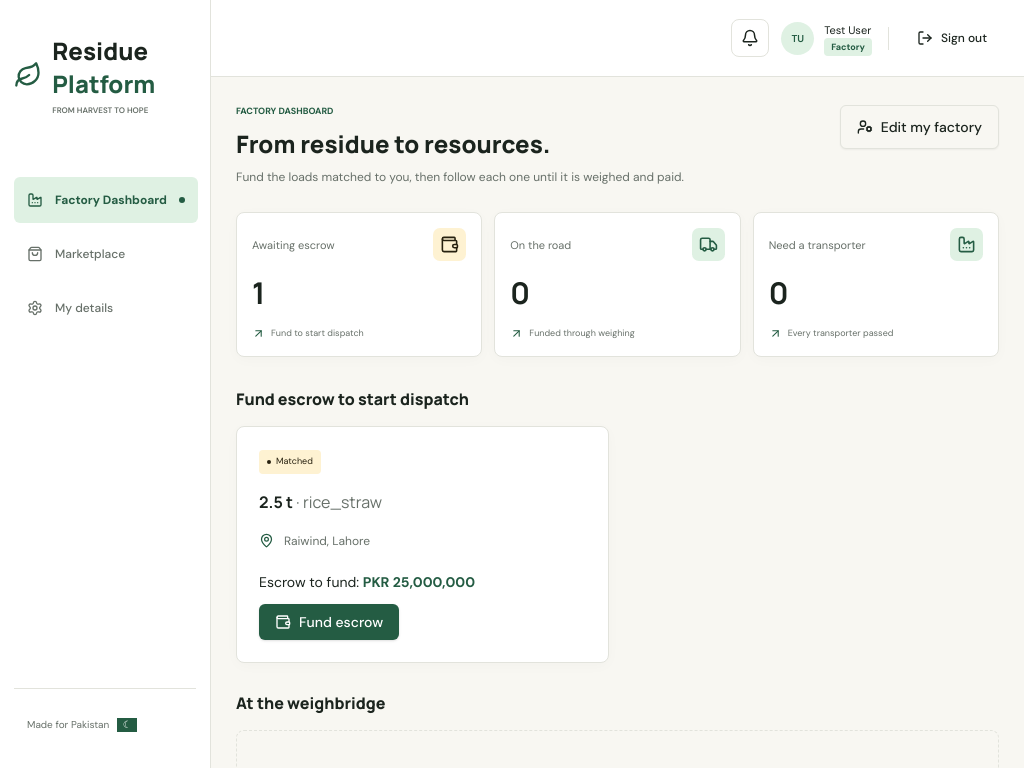
it: factory: fund escrow › with no transporter available the factory is told what happens next
Click the button "Fund escrow" at (329, 622), box [259,604,399,640]
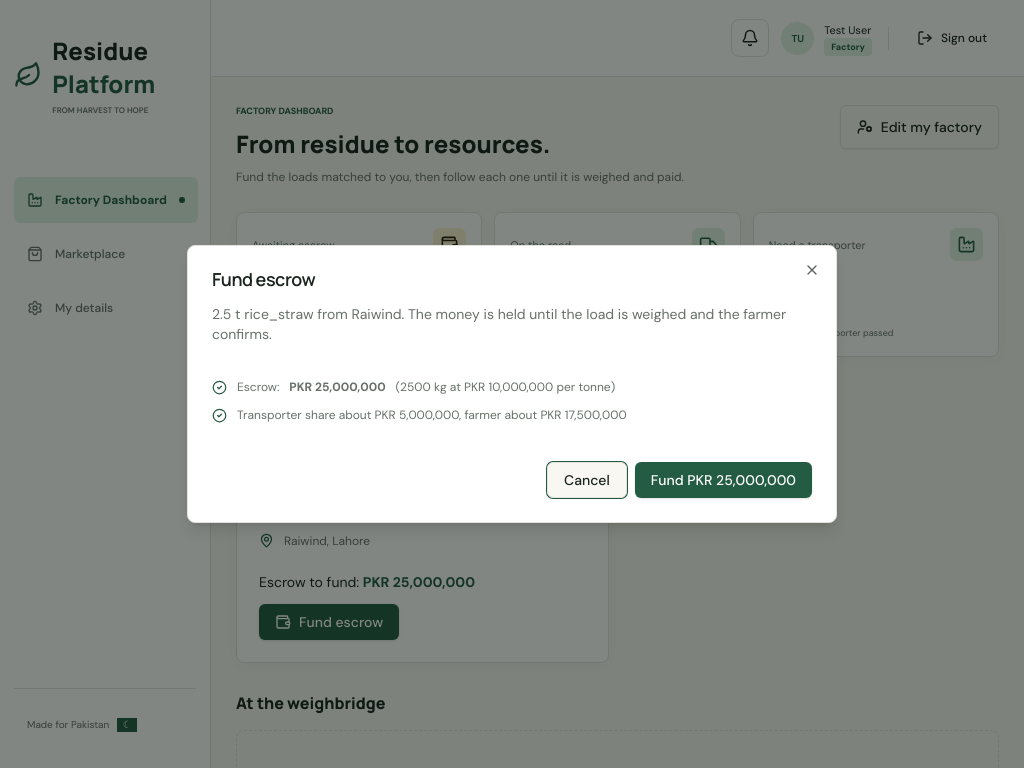
Click the button "Fund PKR 25,000,000" at (723, 480), box [635,462,812,498]
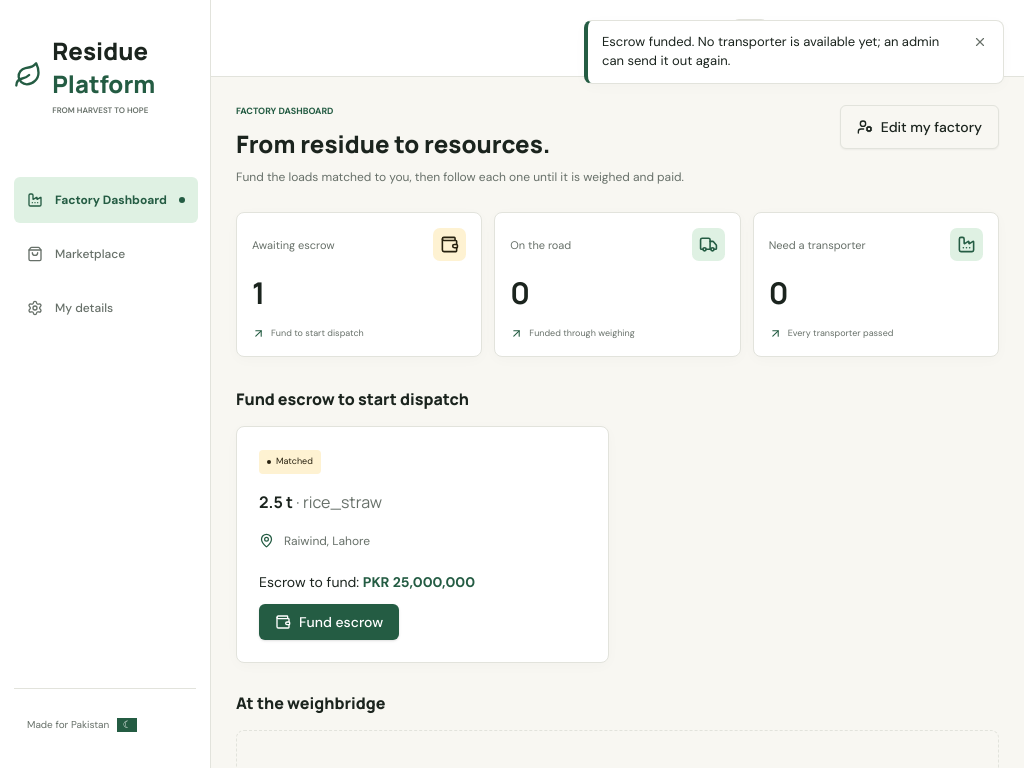
Check: the text "No transporter is available yet" is shown, box [602,33,939,69]
